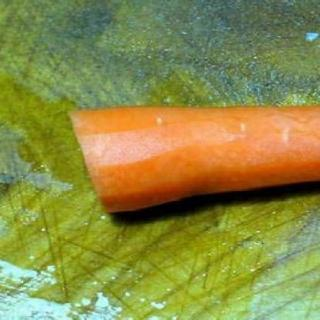carrot: (47, 90, 320, 216)
